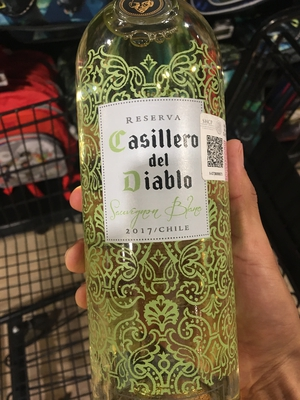casillero del diablo sauvignon blanc: (69, 4, 257, 400)
